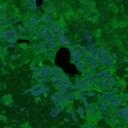alloviz: (53, 45, 82, 78), (16, 37, 30, 46), (34, 1, 44, 8)
